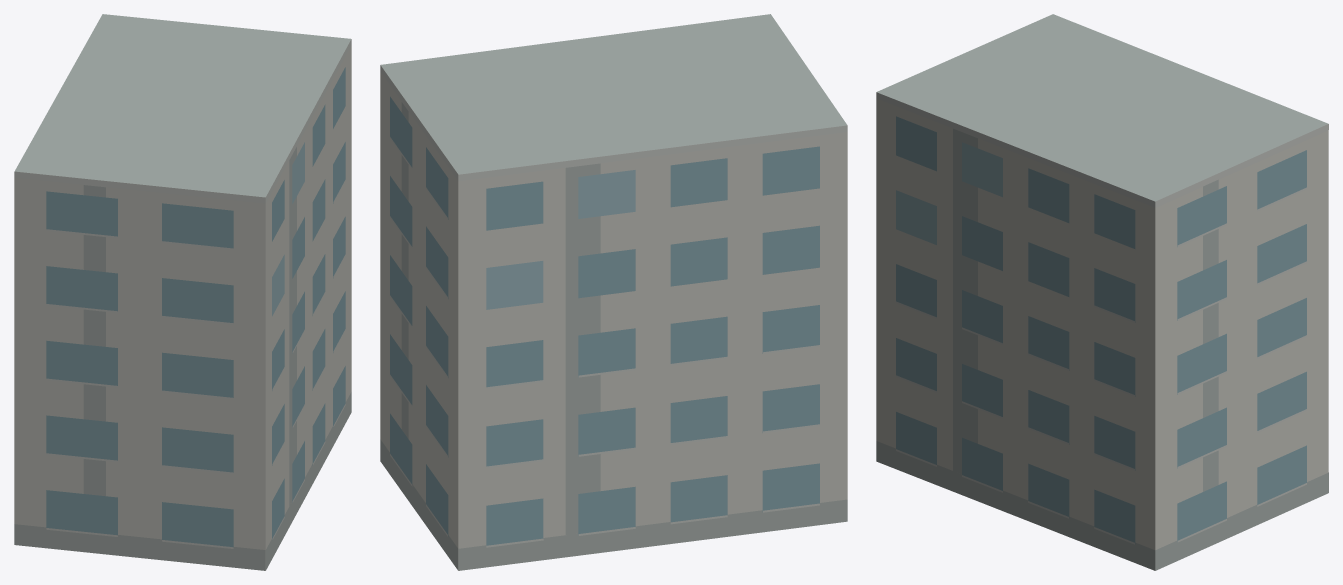
Rendered from survey-upis-32886010.glb.
3 renders of one model, left to right at view 1: azimuth 30°, elevation 25°; view 2: azimuth 150°, elevation 25°; view 3: azimuth 270°, elevation 25°, orthographic. The views are drawn at different scales.
Visible parts, largest first — view 1: survey-upis-32886010.tmp; view 2: survey-upis-32886010.tmp; view 3: survey-upis-32886010.tmp.
Part boxes in pixels (<box>): survey-upis-32886010.tmp: <box>14,14,351,570</box>; survey-upis-32886010.tmp: <box>380,14,847,570</box>; survey-upis-32886010.tmp: <box>876,14,1328,570</box>.
Size of the model in its own units: 15.59 by 14.3 by 15.89.
